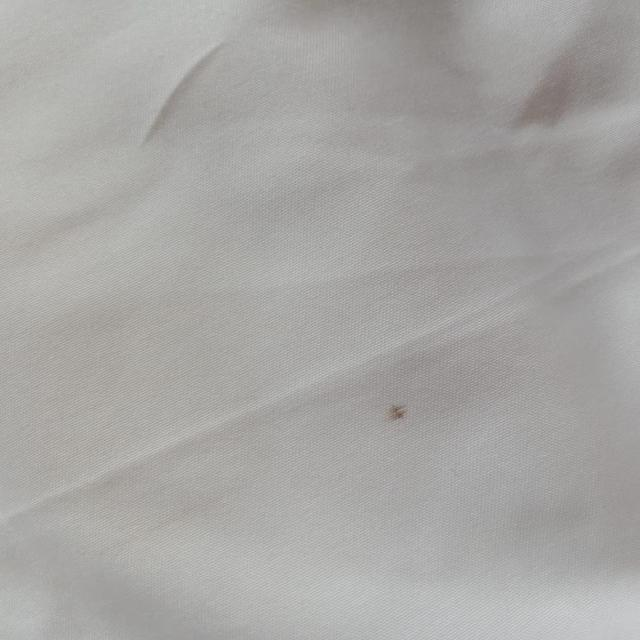stain: (370, 396, 425, 427)
